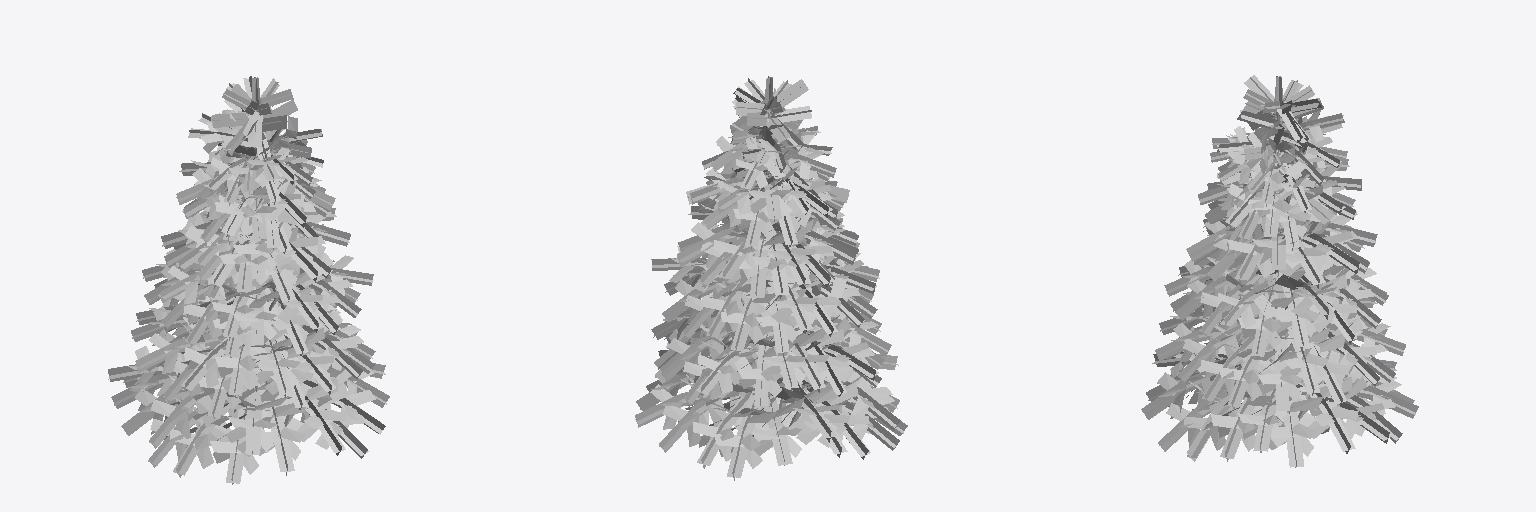
The model's file is christmas_tree.obj.
The picture shows the model from 3 angles: view 1: azimuth 30°, elevation 25°; view 2: azimuth 150°, elevation 25°; view 3: azimuth 270°, elevation 25°; orthographic projection.
Parts seen in each view (by area): view 1: Cylinder; view 2: Cylinder; view 3: Cylinder.
Part boxes in pixels (x1,y1,x2,y2): Cylinder: (108, 76, 389, 484); Cylinder: (635, 76, 907, 480); Cylinder: (1141, 75, 1418, 467).
Bounding box in the file's own units: 1.31 × 1.87 × 1.32.